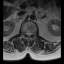CCS_normal: (27, 30, 29, 38)
LFS_normal: (32, 31, 33, 36)
LLS_normal: (29, 30, 31, 37)
RFS_normal: (24, 31, 26, 36)
RLS_normal: (26, 30, 27, 36)
